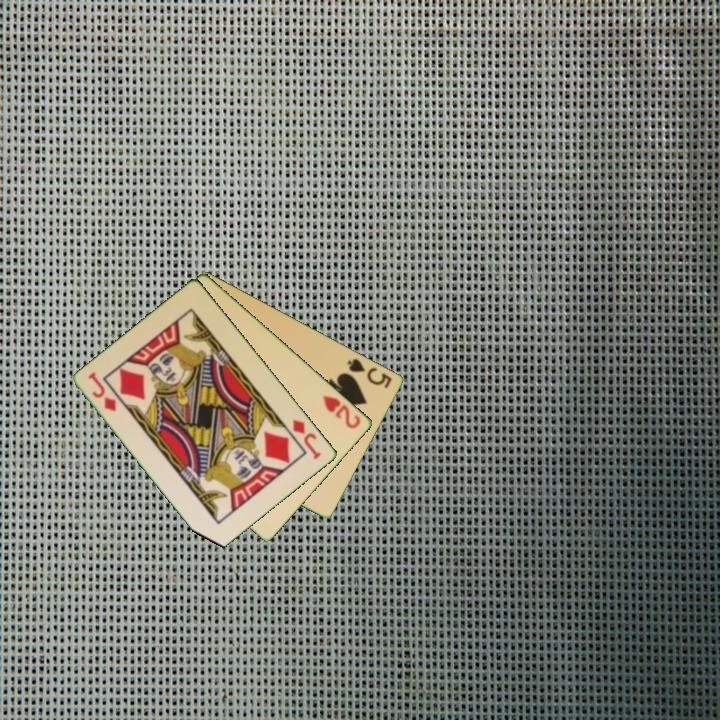2h: (319, 392, 364, 432)
5s: (344, 355, 395, 391)
Jd: (289, 415, 325, 462), (84, 368, 120, 414)
